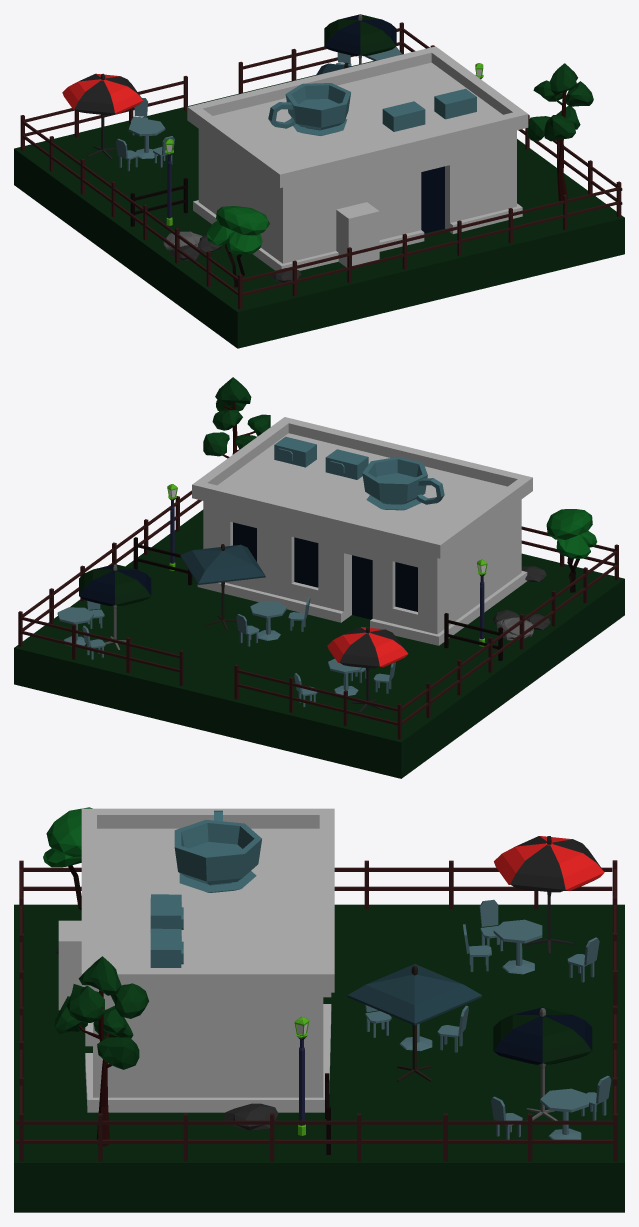
The model's file is Cafe.FBX.
The picture shows the model from 3 angles, top to bottom: view 1: azimuth 30°, elevation 25°; view 2: azimuth 150°, elevation 25°; view 3: azimuth 270°, elevation 25°; orthographic projection. The views are drawn at different scales.
Visible parts, largest first — view 1: Cafe; view 2: Cafe; view 3: Cafe.
Boxes of the visible parts, <box> form: Cafe: <box>14,14,624,348</box>; Cafe: <box>14,377,624,778</box>; Cafe: <box>14,807,624,1212</box>.
Size of the model in its own units: 10000 by 4297 by 10000.
